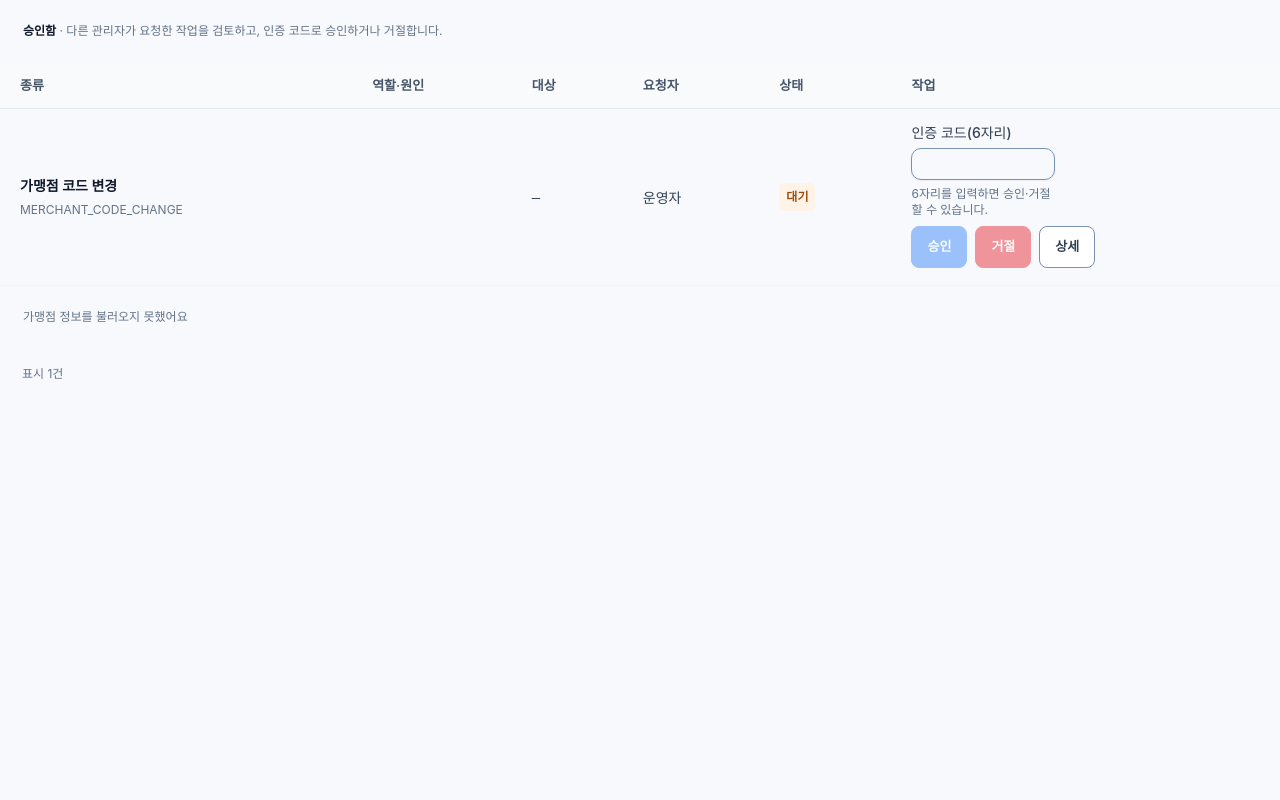
Test: ApprovalsScreen — MC-1b merchant code change (MERCHANT-CODE-001 §5.5) › the detail shows "현재 → 새 코드" and the reason; no registrant notice even when the viewer is the merchant registrant; no mer_ in the panel
The image size is (1280, 800).
Expected: the text "가맹점 코드 변경" is shown, [20,177,117,194]
Click the button "상세".
click(1067, 247)  # box [1039,226,1095,268]
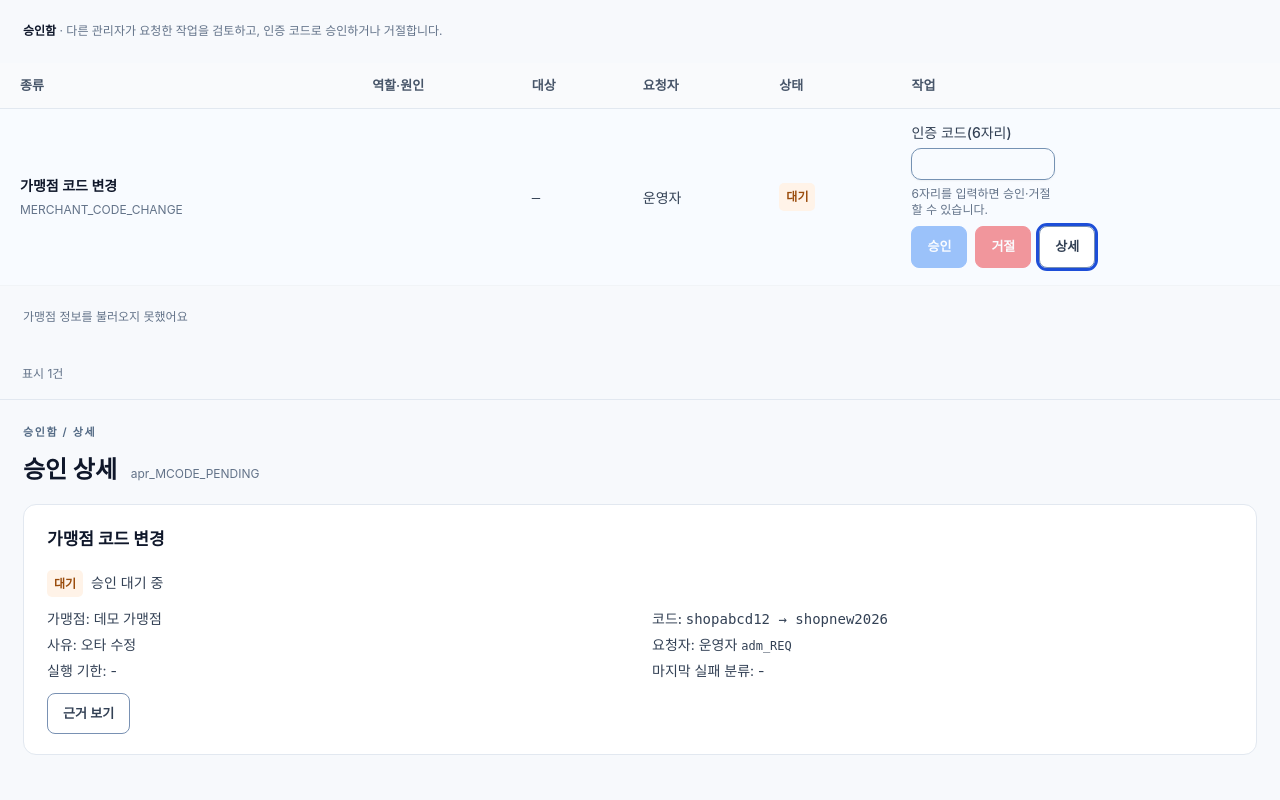
Expected: the element named "가맹점 코드 변경 승인 상세" shows "코드: shopabcd12 → shopnew2026", [23,504,1257,755]
Expected: the element named "가맹점 코드 변경 승인 상세" shows "사유: 오타 수정", [47,636,136,653]
Expected: the element named "가맹점 코드 변경 승인 상세" shows "가맹점: 데모 가맹점", [23,504,1257,755]
